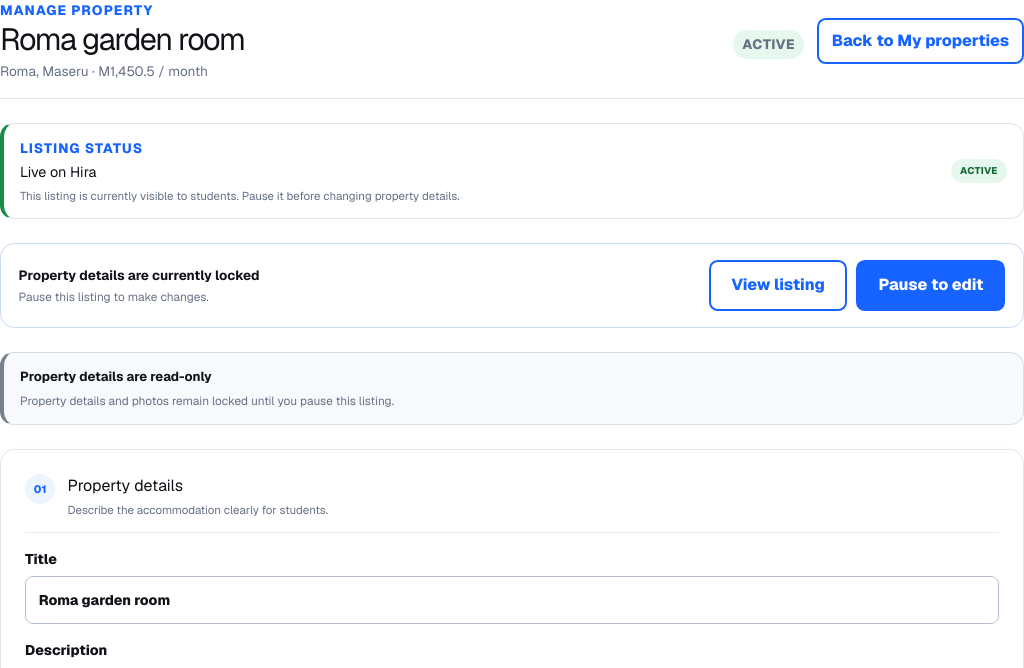
Test case: PropertyForm › shows ACTIVE as read-only and cancels pause confirmation without a request
Expected: the text "This listing is currently visible to students. Pause it before changing property details." is shown, [20, 188, 460, 203]
Expected: the field labelled "Title" is disabled, [25, 576, 999, 624]
Click the button "Pause to edit" at (931, 286), box [856, 260, 1005, 311]
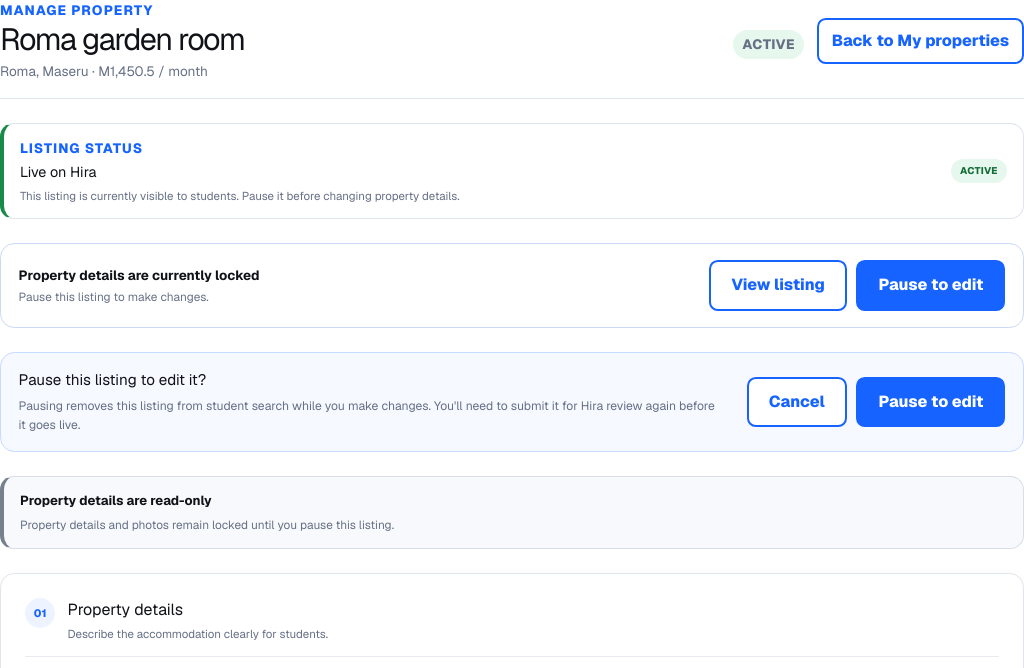
Expected: the dialog "Pause this listing to edit it?" is shown, [0, 352, 1023, 452]
Click the button "Cancel" at (797, 402), box [747, 376, 847, 427]
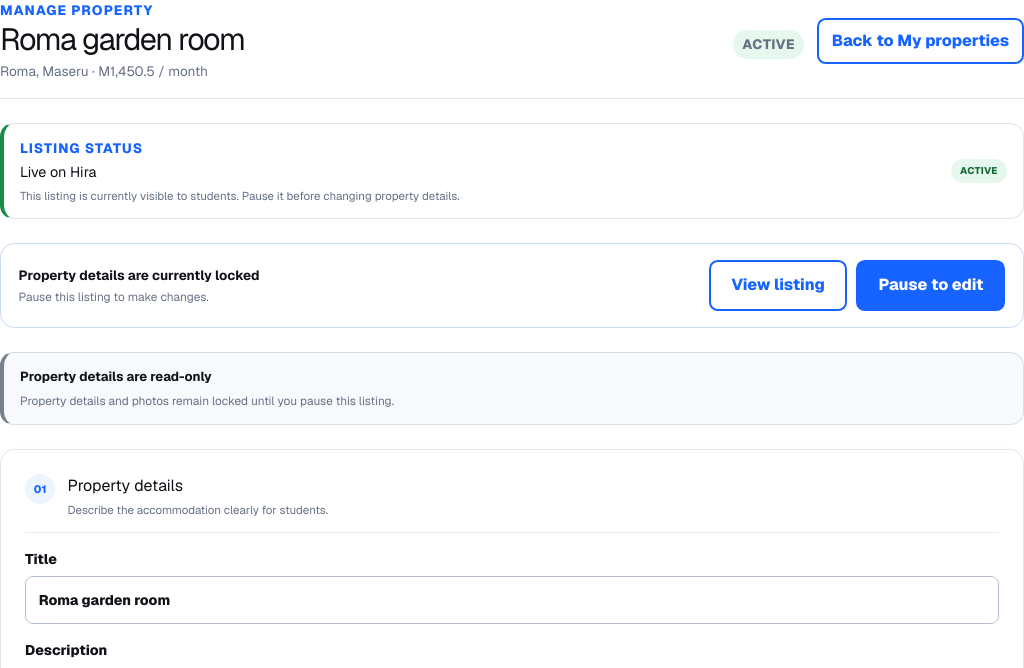
Expected: the field labelled "Title" is disabled, [25, 576, 999, 624]
Expected: the dialog is gone
